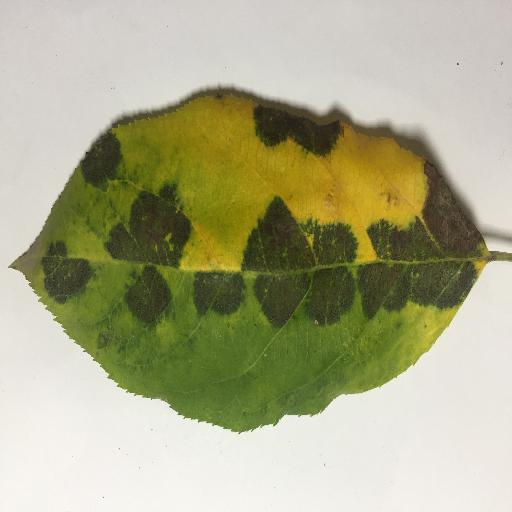Brown_Spot: (412, 156, 491, 257), (240, 192, 308, 251)
